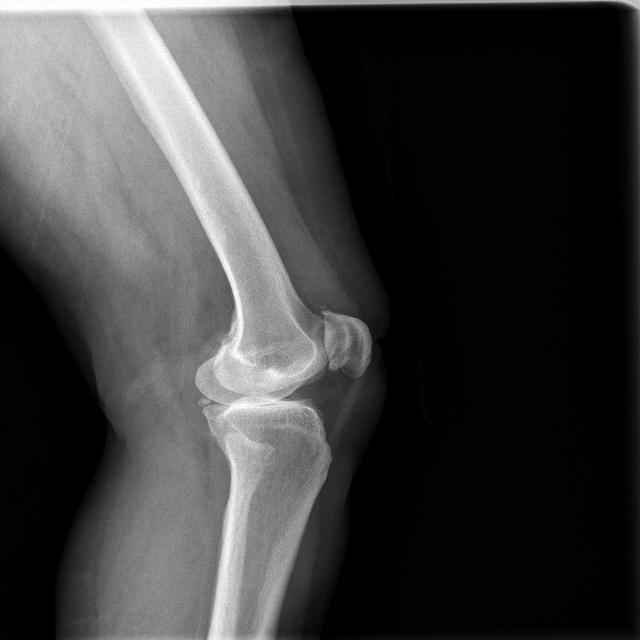Knee: (184, 303, 372, 478)
